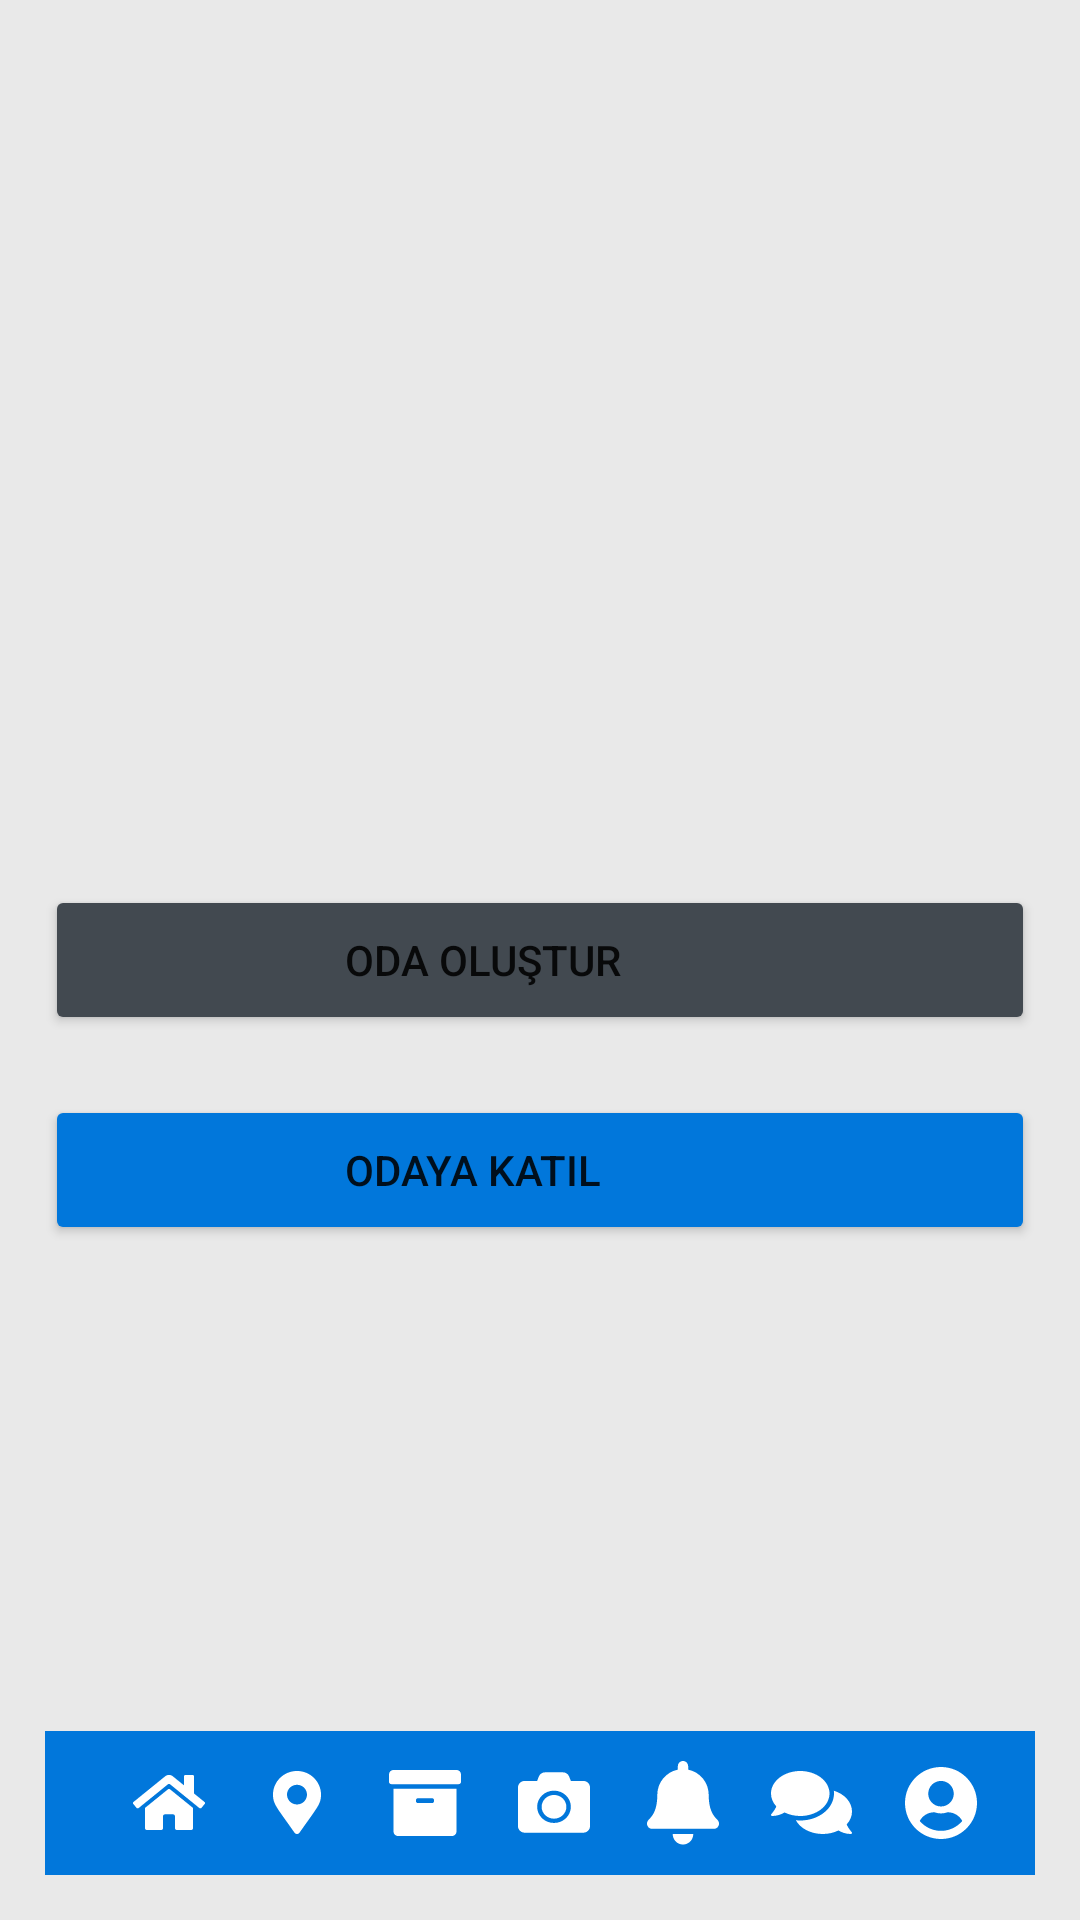

Named icons in this screenshot (1080px×1920px) and their bounding boxes, box(x1, y1, x2, y2):
bildirimsayfasi: box(647, 1761, 719, 1845)
camera: box(518, 1772, 590, 1833)
home: box(133, 1775, 205, 1830)
kutu: box(389, 1770, 461, 1836)
locationmenu: box(273, 1771, 321, 1834)
message: box(771, 1771, 852, 1834)
proife: box(905, 1767, 977, 1839)
